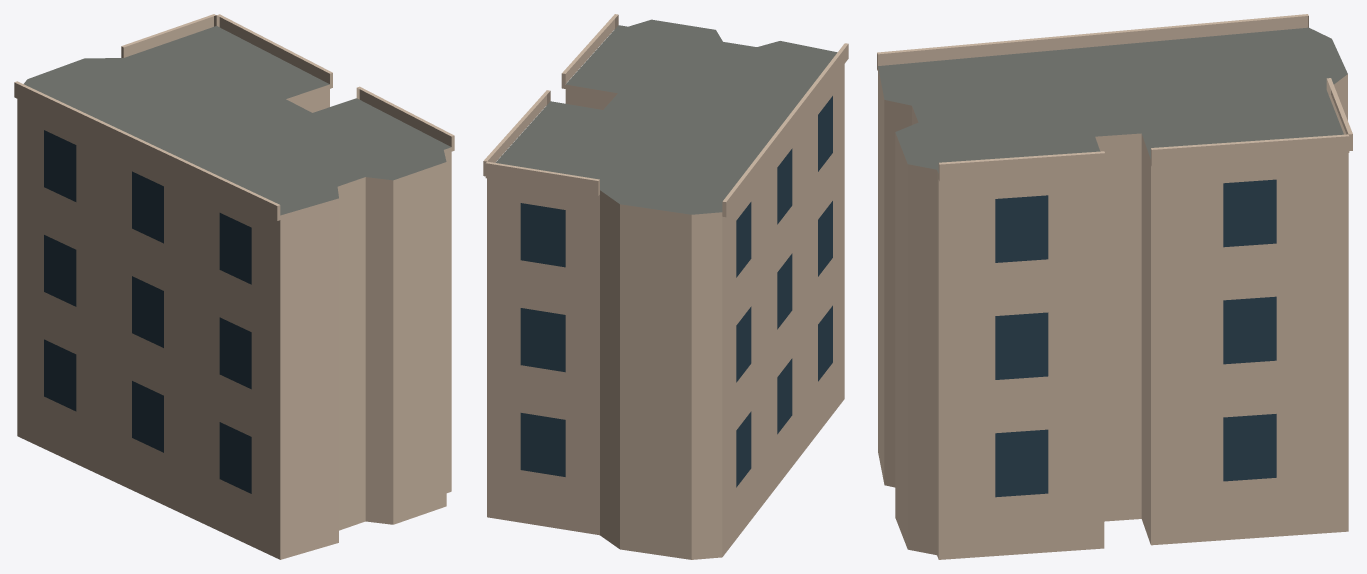
3 renders of one model, left to right at view 1: azimuth 30°, elevation 25°; view 2: azimuth 150°, elevation 25°; view 3: azimuth 270°, elevation 25°, orthographic. The views are drawn at different scales.
Parts seen in each view (by area): view 1: Footprint 0 / surface 2, Footprint 0 / surface 1, Inset glazing, Facade bay volumes; view 2: Footprint 0 / surface 2, Footprint 0 / surface 1, Inset glazing, Facade bay volumes; view 3: Footprint 0 / surface 2, Footprint 0 / surface 1, Inset glazing, Facade bay volumes.
Boxes of the visible parts, left/top/right/bottom form: Footprint 0 / surface 2: left=17, top=84, right=451, bottom=559; Footprint 0 / surface 1: left=24, top=26, right=451, bottom=215; Inset glazing: left=44, top=130, right=251, bottom=493; Facade bay volumes: left=14, top=14, right=454, bottom=220; Footprint 0 / surface 2: left=487, top=64, right=844, bottom=559; Footprint 0 / surface 1: left=495, top=19, right=837, bottom=214; Inset glazing: left=520, top=96, right=832, bottom=487; Facade bay volumes: left=483, top=14, right=848, bottom=217; Footprint 0 / surface 2: left=878, top=67, right=1348, bottom=559; Footprint 0 / surface 1: left=878, top=27, right=1347, bottom=173; Inset glazing: left=995, top=179, right=1276, bottom=497; Facade bay volumes: left=877, top=14, right=1352, bottom=181.
Size of the model in its own units: 9.59 by 11.79 by 12.81.
